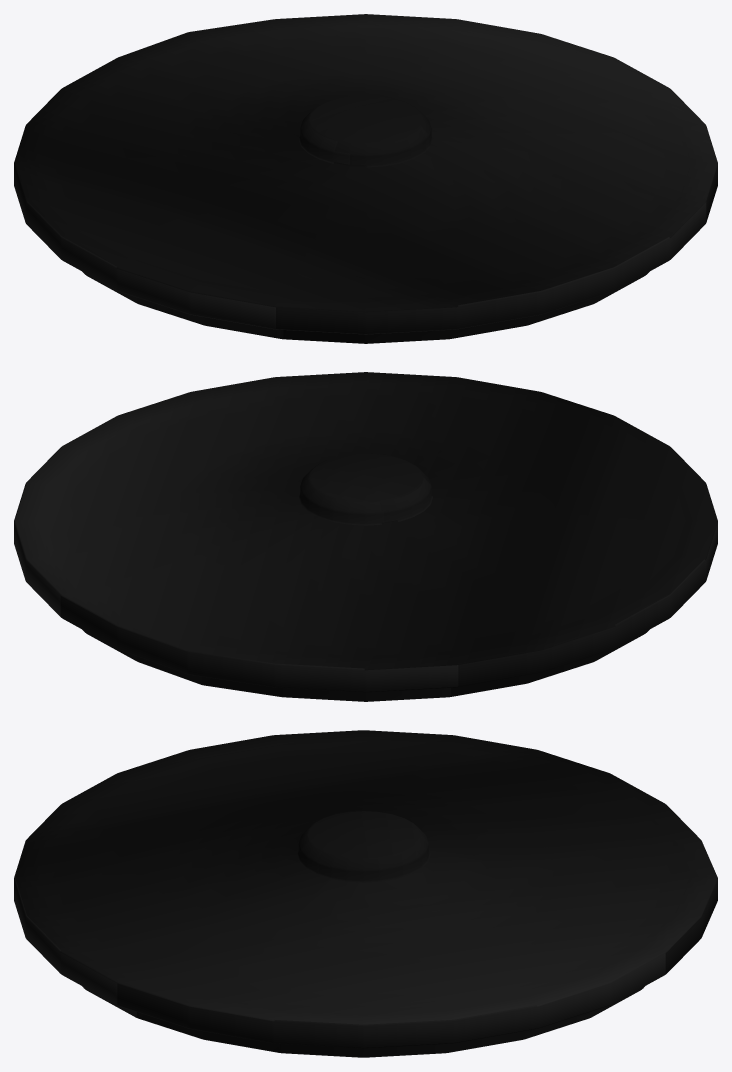
Rendered from Blender Lid.fbx.
The picture shows the model from 3 angles, top to bottom: view 1: azimuth 30°, elevation 25°; view 2: azimuth 150°, elevation 25°; view 3: azimuth 270°, elevation 25°; orthographic projection.
Parts seen in each view (by area): view 1: Blender Lid; view 2: Blender Lid; view 3: Blender Lid.
Part boxes in pixels (left/top/right/bottom): Blender Lid: left=14, top=14, right=717, bottom=343; Blender Lid: left=14, top=372, right=717, bottom=701; Blender Lid: left=14, top=730, right=717, bottom=1057.
Size of the model in its own units: 161 by 22.92 by 162.
